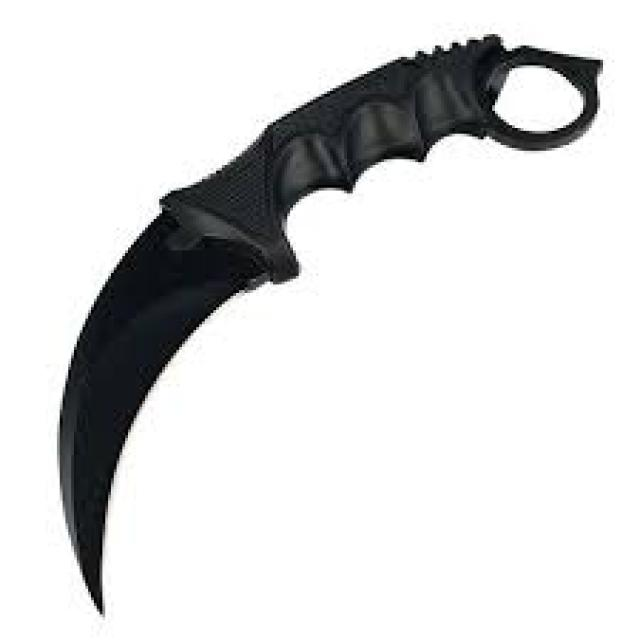knife: (47, 28, 616, 633)
